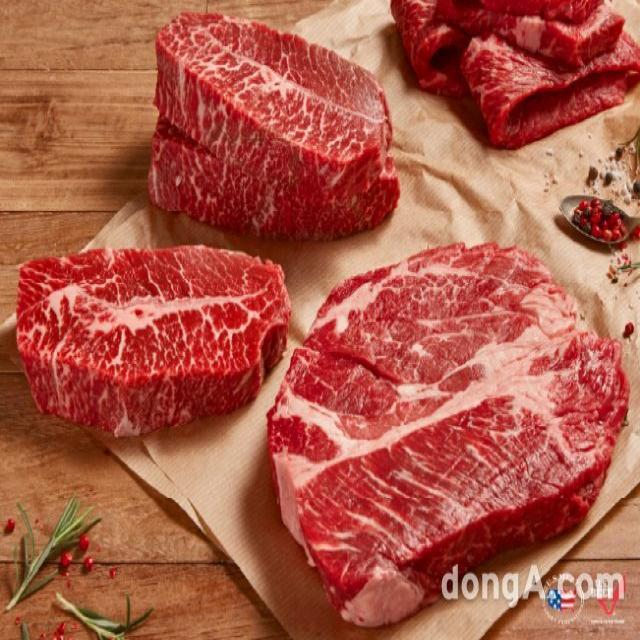beef: (350, 301, 545, 501)
